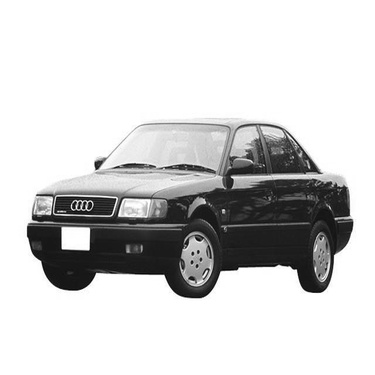car: (28, 110, 359, 308)
